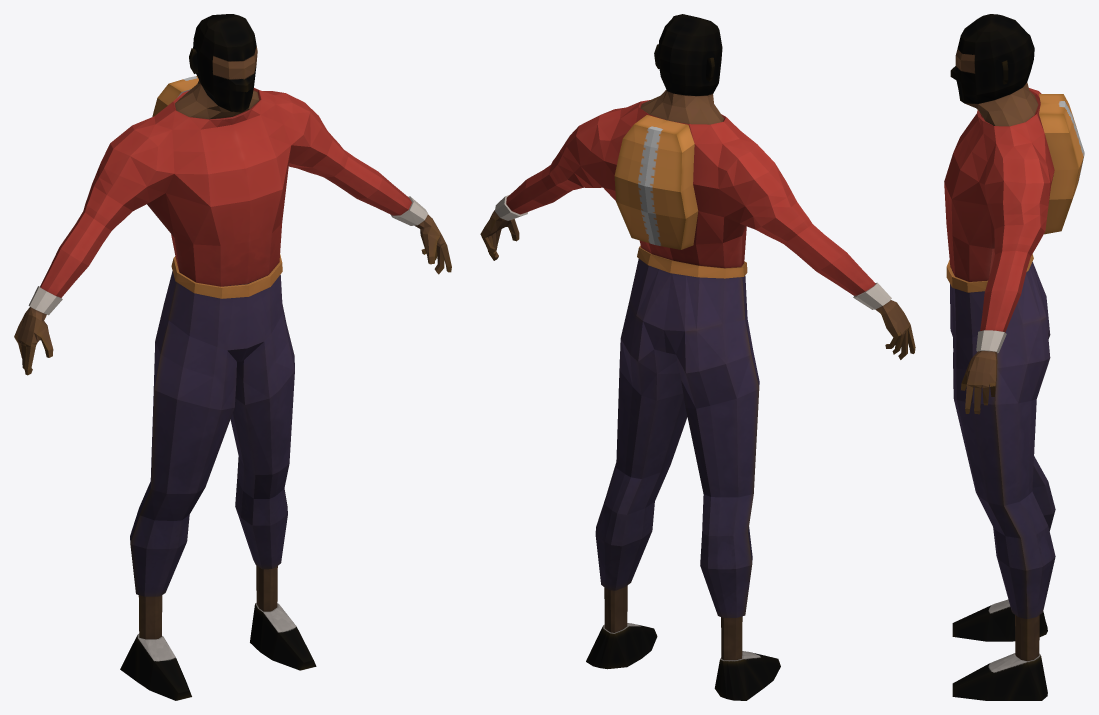
File: HumenEnemy.fbx
3 views of the same model, side by side, from view 1: azimuth 30°, elevation 25°; view 2: azimuth 150°, elevation 25°; view 3: azimuth 270°, elevation 25° (orthographic).
Parts seen in each view (by area): view 1: pants, torso, tors, sd, belt, backpack; view 2: pants, torso, backpack, tors, sd, belt; view 3: pants, torso, sd, tors, backpack, belt.
Part boxes in pixels (<box>): pants: <box>130,271,294,639</box>; torso: <box>28,88,427,315</box>; tors: <box>14,214,451,700</box>; sd: <box>175,14,259,119</box>; belt: <box>171,254,282,298</box>; backpack: <box>152,76,198,116</box>; pants: <box>595,258,759,660</box>; torso: <box>495,100,891,309</box>; backpack: <box>614,115,698,249</box>; tors: <box>480,210,915,700</box>; sd: <box>640,14,723,124</box>; belt: <box>637,245,747,278</box>; pants: <box>950,262,1055,661</box>; torso: <box>944,88,1054,353</box>; sd: <box>950,14,1038,126</box>; tors: <box>952,351,1047,700</box>; backpack: <box>1039,93,1084,234</box>; belt: <box>946,254,1033,292</box>.
Size of the model in its own units: 186 by 271 by 53.73.
